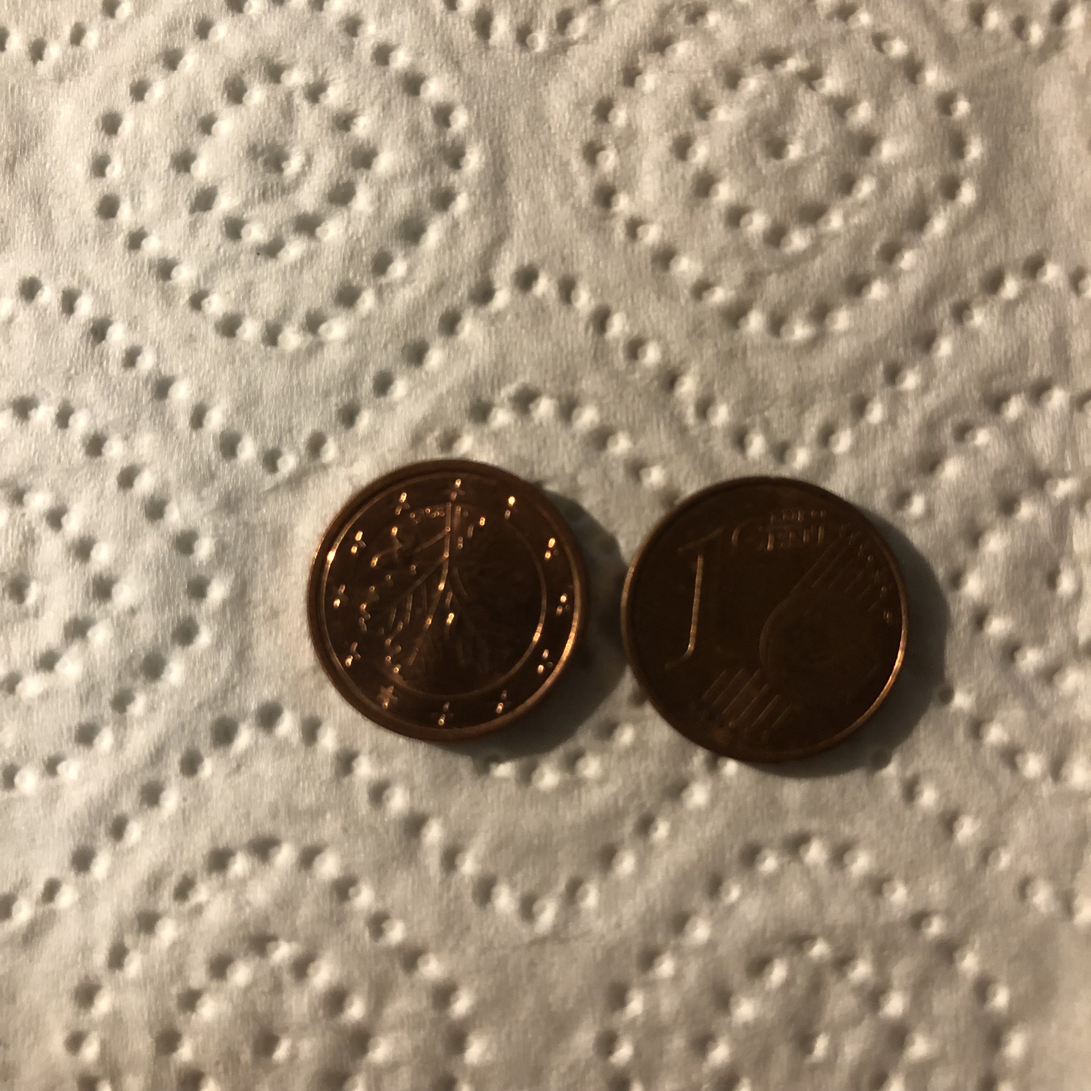1 cent: (622, 467, 911, 761), (306, 455, 595, 749)
